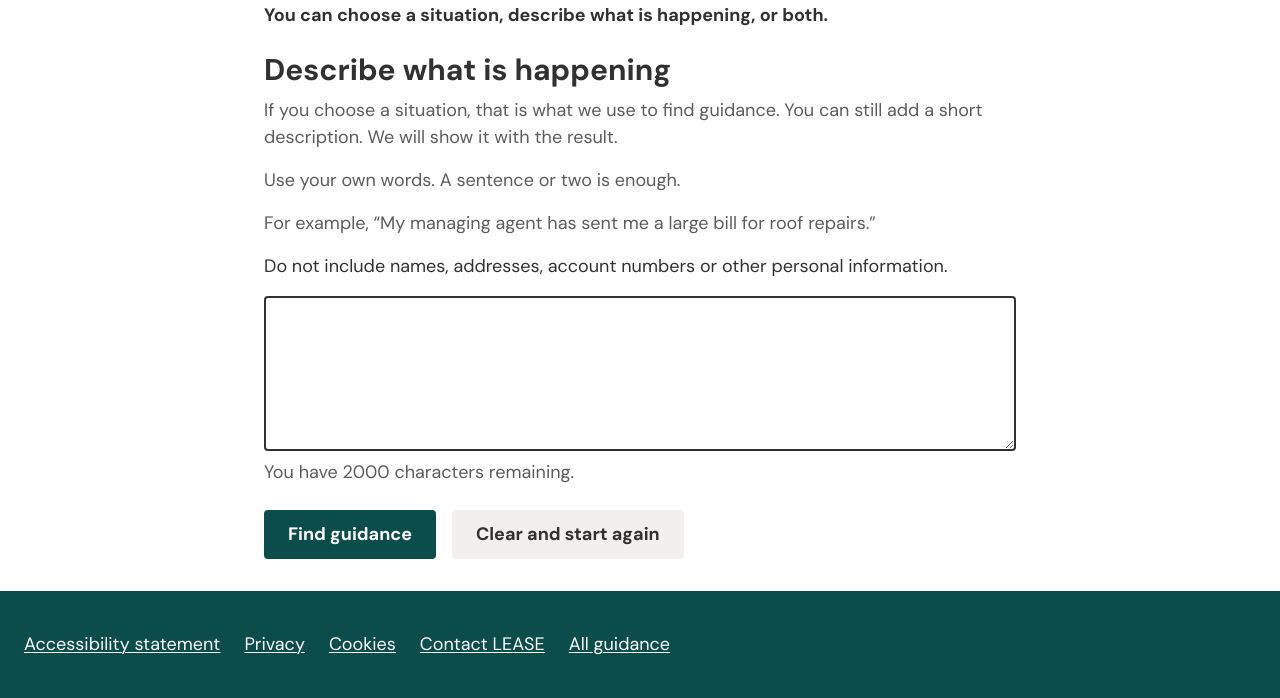
Test case: result page › focuses the description when changing answers with no situation
The width and height of the screenshot is (1280, 698).
(page scrolled)
Type "UNIQUE_ENQUIRY_MARKER_description_only" into the text box.
click(640, 373); type("UNIQUE_ENQUIRY_MARKER_description_only")  # box [264,296,1016,451]
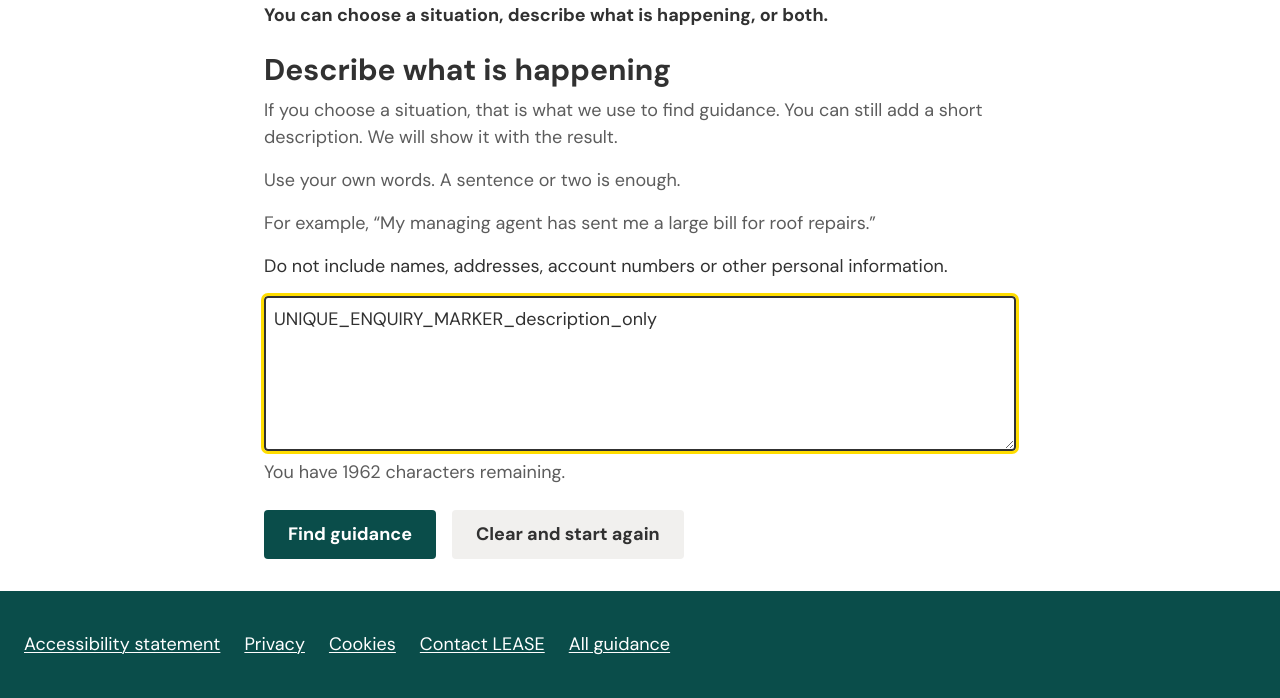
Click the button "Find guidance".
click(350, 534)  # box [264,510,436,559]
(page scrolled)
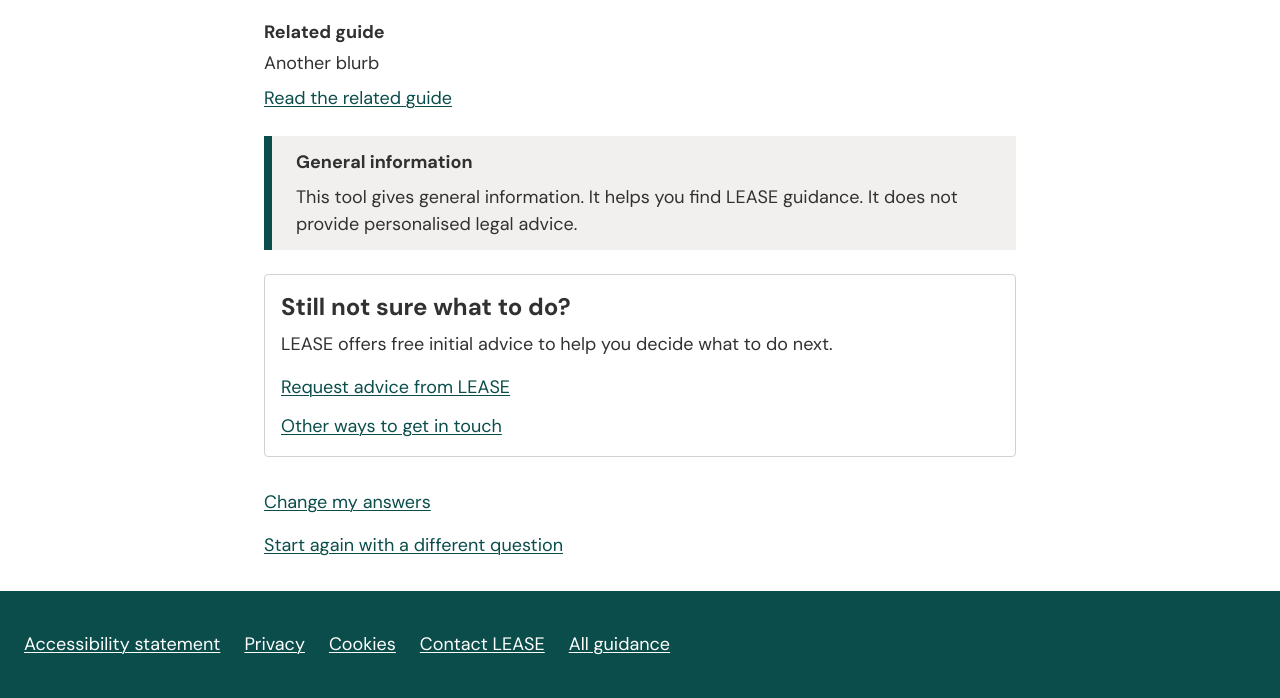
Click the button "Change my answers".
click(347, 502)  # box [264,489,431,516]
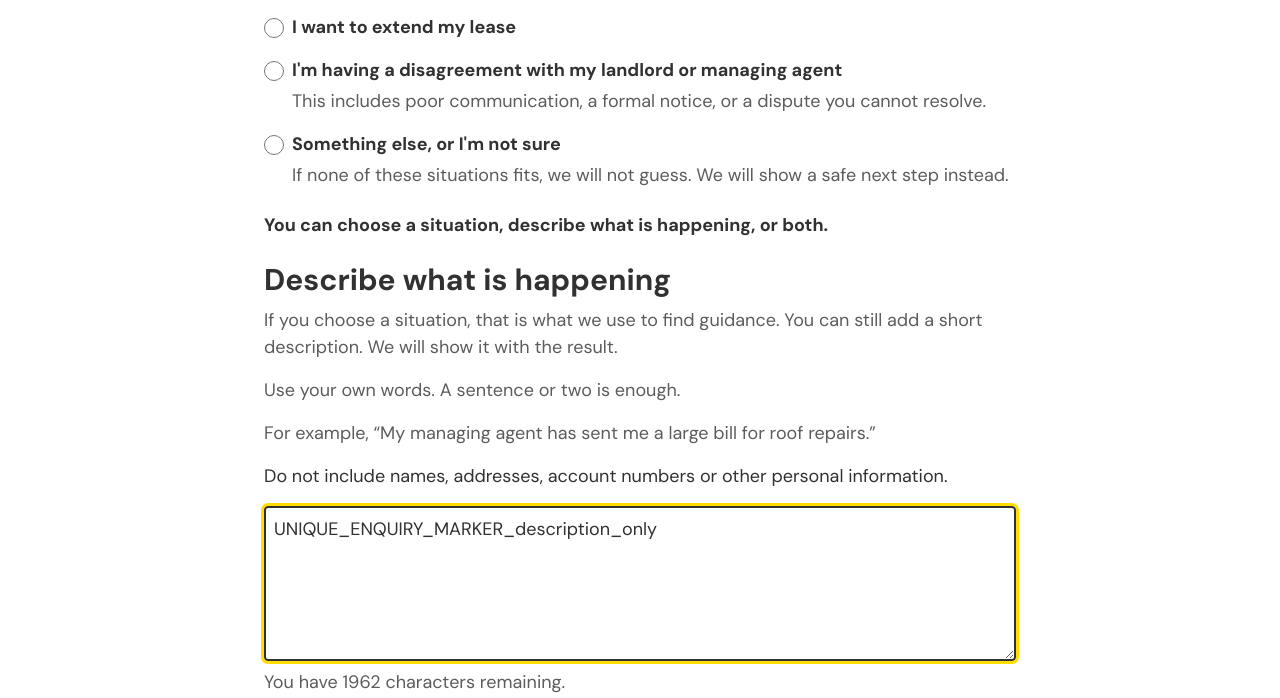
Result: the text box holds "UNIQUE_ENQUIRY_MARKER_description_only" at [264,506,1016,661]
